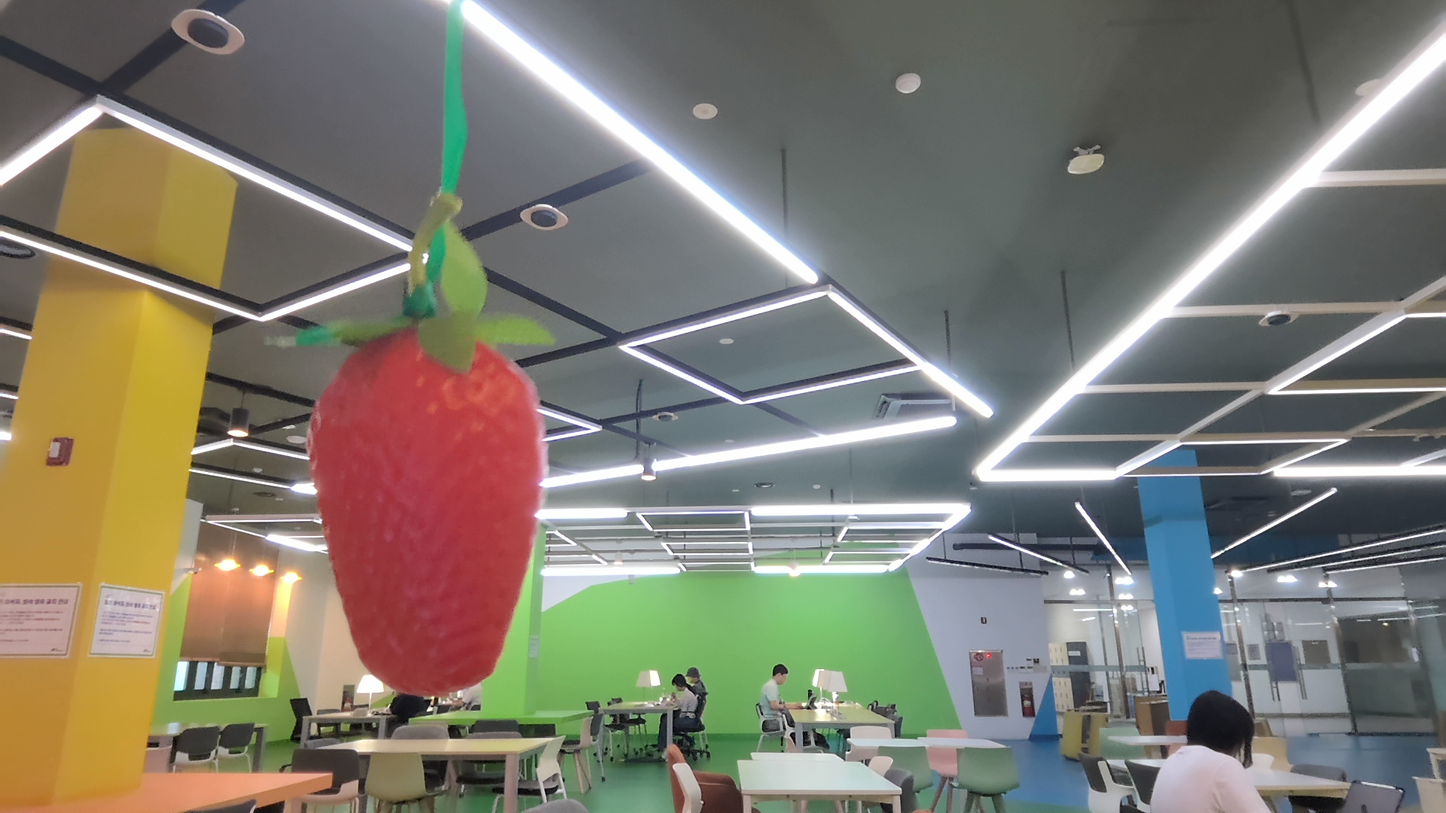strawberry: (285, 322, 566, 688)
